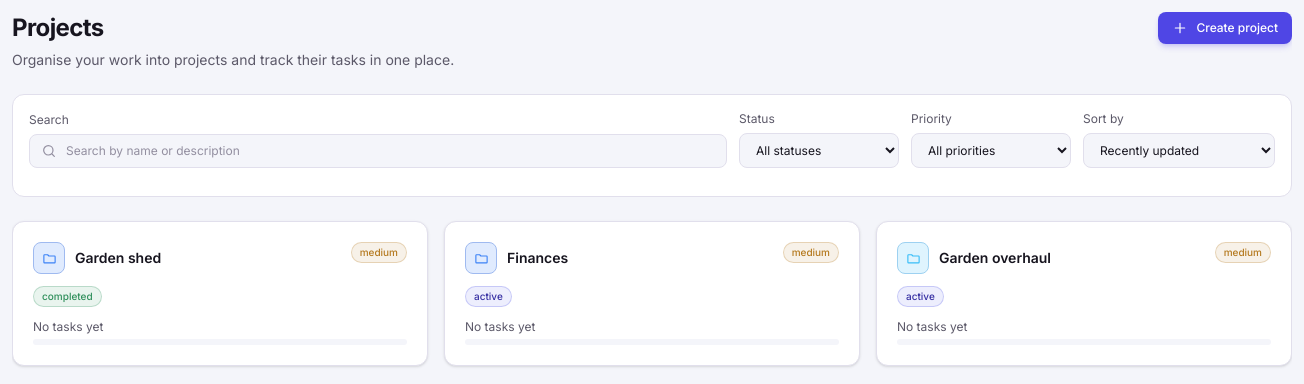
ProjectsPage › combines search and status filter correctly
expect the heading "Garden overhaul" is shown: met, box x1=939 y1=248 x2=1051 y2=268
Type "garden" into the field named "Search projects".
click(378, 151); type("garden")  # box x1=29 y1=134 x2=727 y2=168
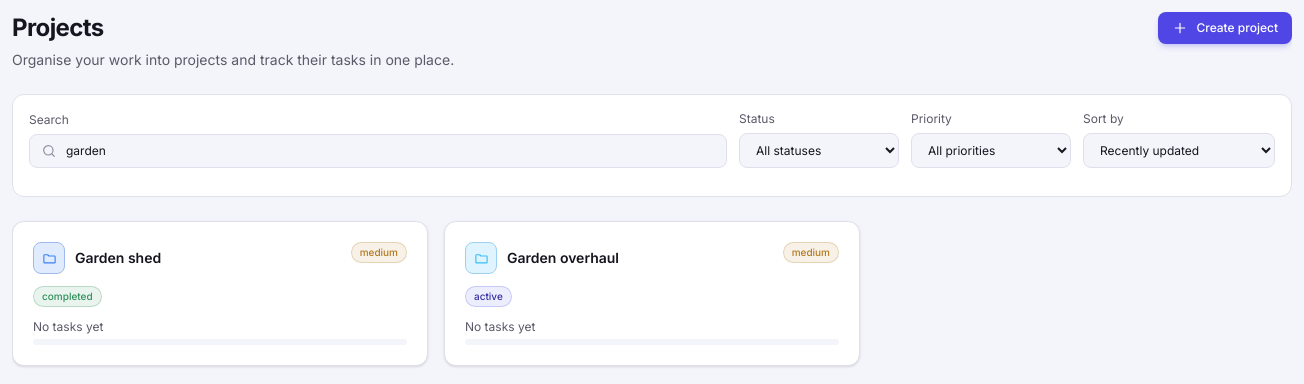
expect the heading "Garden overhaul" is shown: met, box x1=507 y1=248 x2=619 y2=268
expect the link "Finances" is gone: met
Select "Active" in the dropdown named "Filter by status" at [819, 150], box x1=739 y1=133 x2=899 y2=168
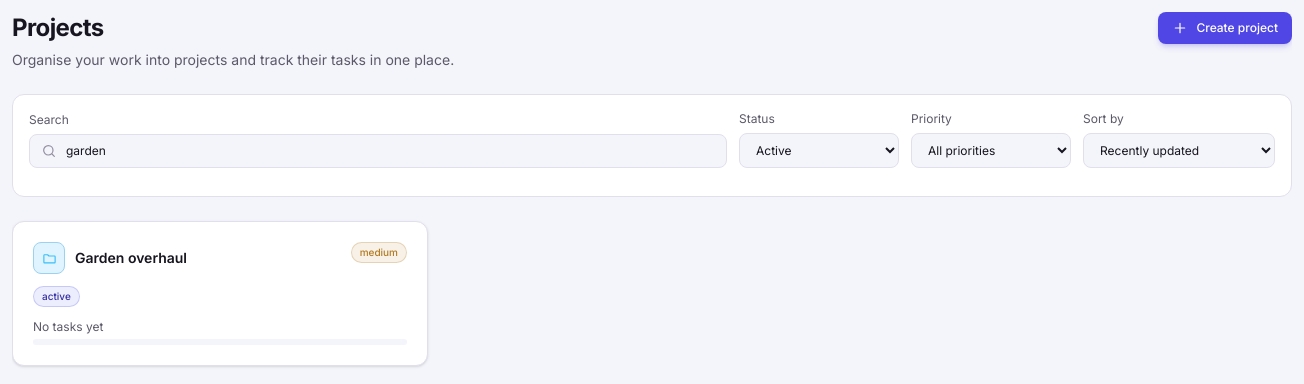
expect the heading "Garden overhaul" is shown: met, box x1=75 y1=248 x2=187 y2=268
expect the link "Garden shed" is gone: met
